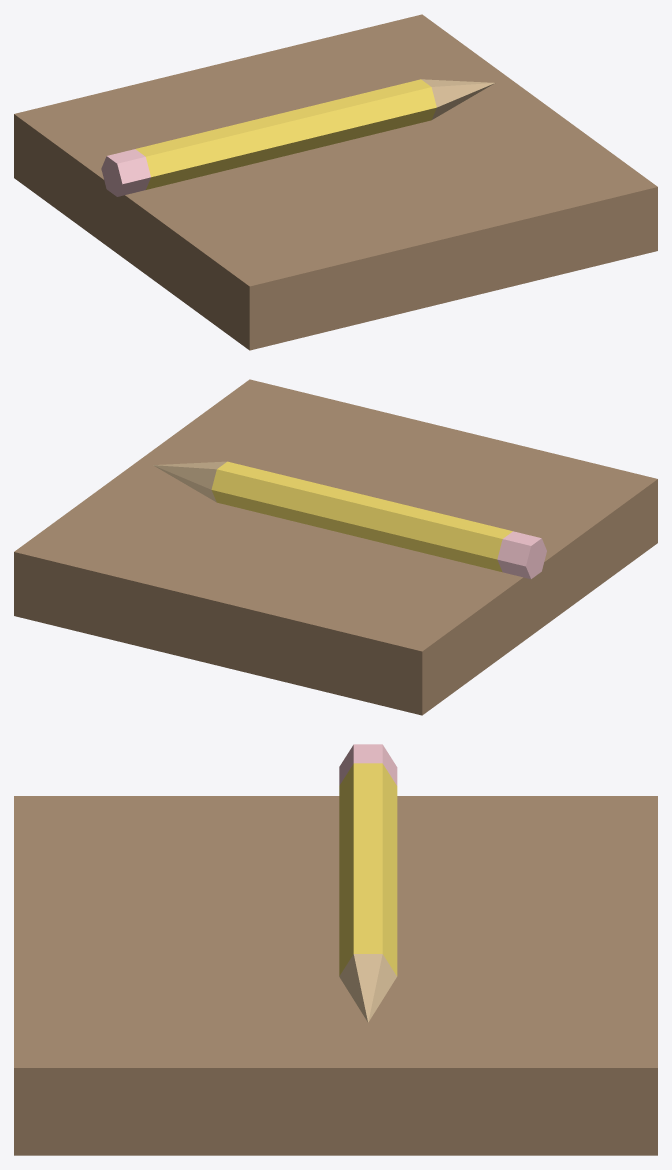
Rendered from skirt_pencil.glb.
3 views of the same model, one above another, from view 1: azimuth 30°, elevation 25°; view 2: azimuth 150°, elevation 25°; view 3: azimuth 270°, elevation 25° (orthographic). The views are drawn at different scales.
Parts seen in each view (by area): view 1: skirt_pencil; view 2: skirt_pencil; view 3: skirt_pencil.
Part boxes in pixels (box(x1,y1,x2,y2)): skirt_pencil: box(14, 14, 657, 350); skirt_pencil: box(14, 379, 657, 715); skirt_pencil: box(14, 744, 657, 1155).
Bounding box in the file's own units: 1.02 × 0.229 × 1.
